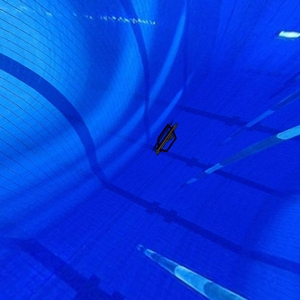submarine: (152, 116, 181, 161)
